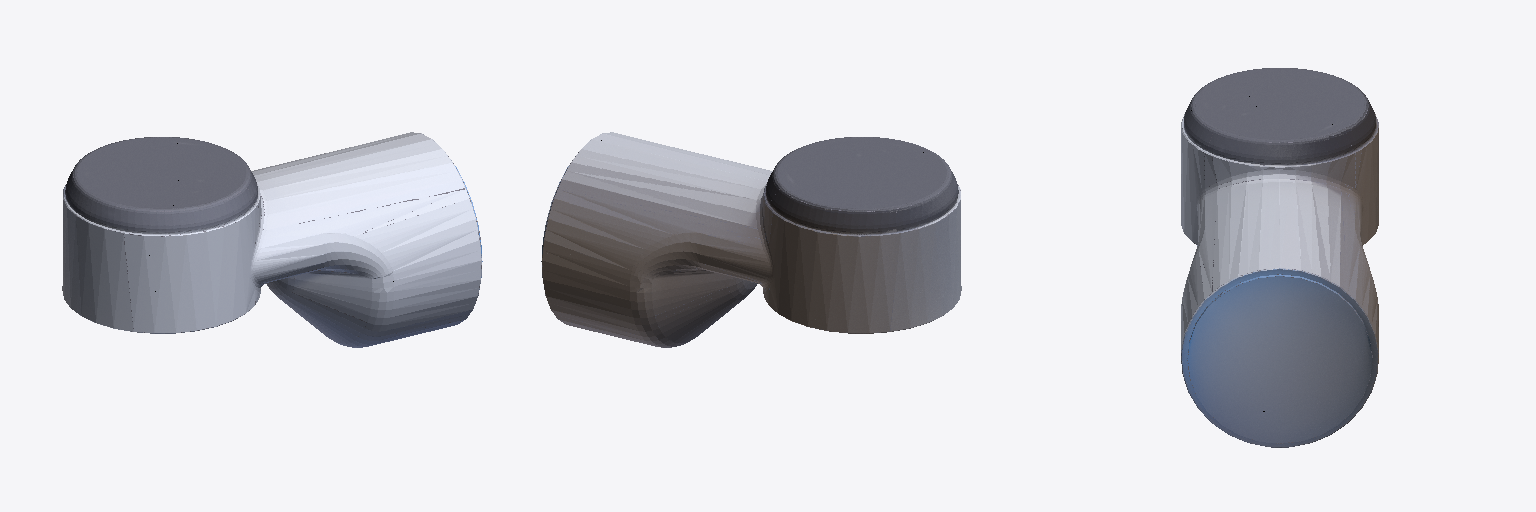
The picture shows the model from 3 angles: view 1: azimuth 30°, elevation 25°; view 2: azimuth 150°, elevation 25°; view 3: azimuth 270°, elevation 25°; orthographic projection.
Bounding box in the file's own units: 0.218 × 0.1225 × 0.104.
1 materials, 1 textured.